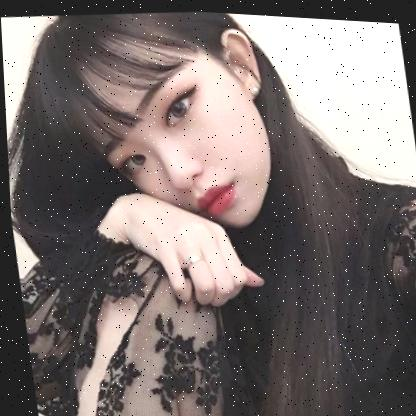person: (29, 2, 288, 241)
